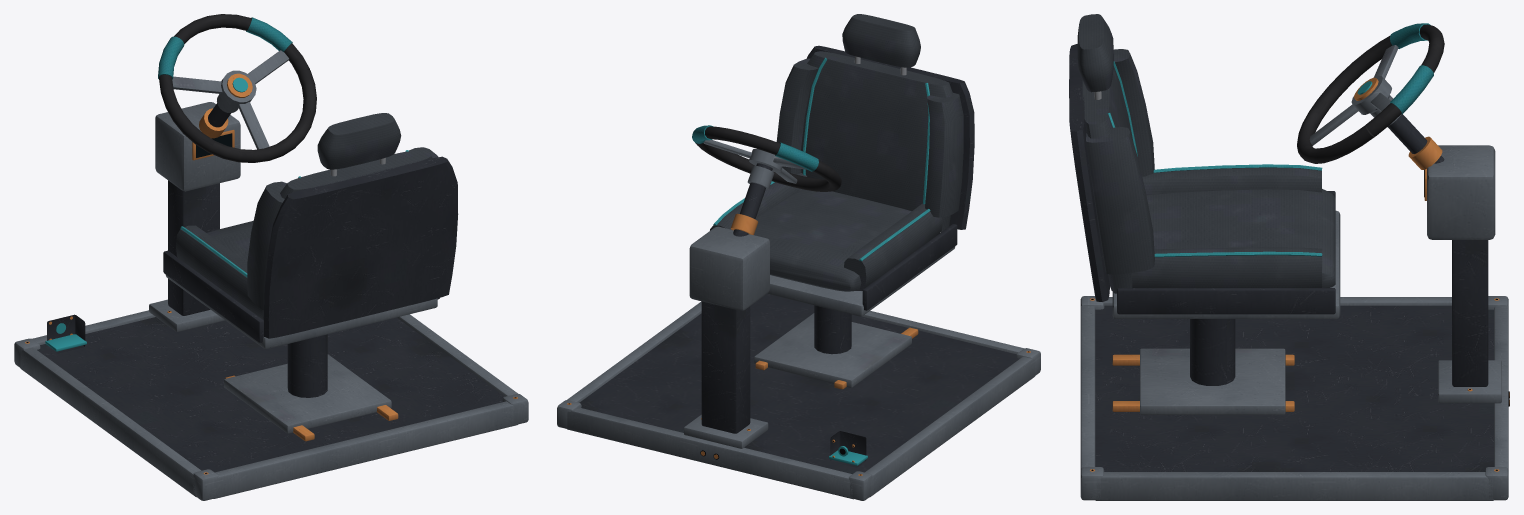
File: drivers_seat_2.glb
3 views of the same model, side by side, from view 1: azimuth 30°, elevation 25°; view 2: azimuth 150°, elevation 25°; view 3: azimuth 270°, elevation 25° (orthographic). The views are drawn at different scales.
Visible parts, largest first — view 1: Base, ShellFrame, Backrest, Cushion; view 2: Base, Backrest, ShellFrame, Cushion; view 3: Base, Cushion, ShellFrame, Backrest.
Part boxes in pixels (bbox=[...]): Base: bbox=[14, 14, 528, 500]; ShellFrame: bbox=[163, 156, 458, 433]; Backrest: bbox=[247, 113, 438, 319]; Cushion: bbox=[176, 221, 263, 319]; Base: bbox=[557, 125, 1040, 500]; Backrest: bbox=[776, 14, 963, 231]; ShellFrame: bbox=[754, 45, 974, 387]; Cushion: bbox=[710, 173, 942, 291]; Base: bbox=[1080, 23, 1509, 500]; Cushion: bbox=[1132, 164, 1335, 287]; ShellFrame: bbox=[1069, 44, 1340, 414]; Backrest: bbox=[1077, 14, 1154, 293].
Size of the model in its own units: 0.94 by 0.9239 by 0.9681.
11 materials, 8 textured.
